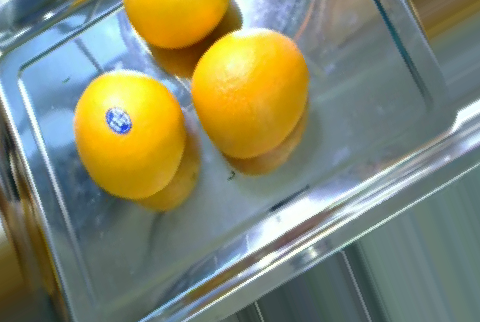Orange: (190, 27, 307, 160), (73, 68, 186, 197)
